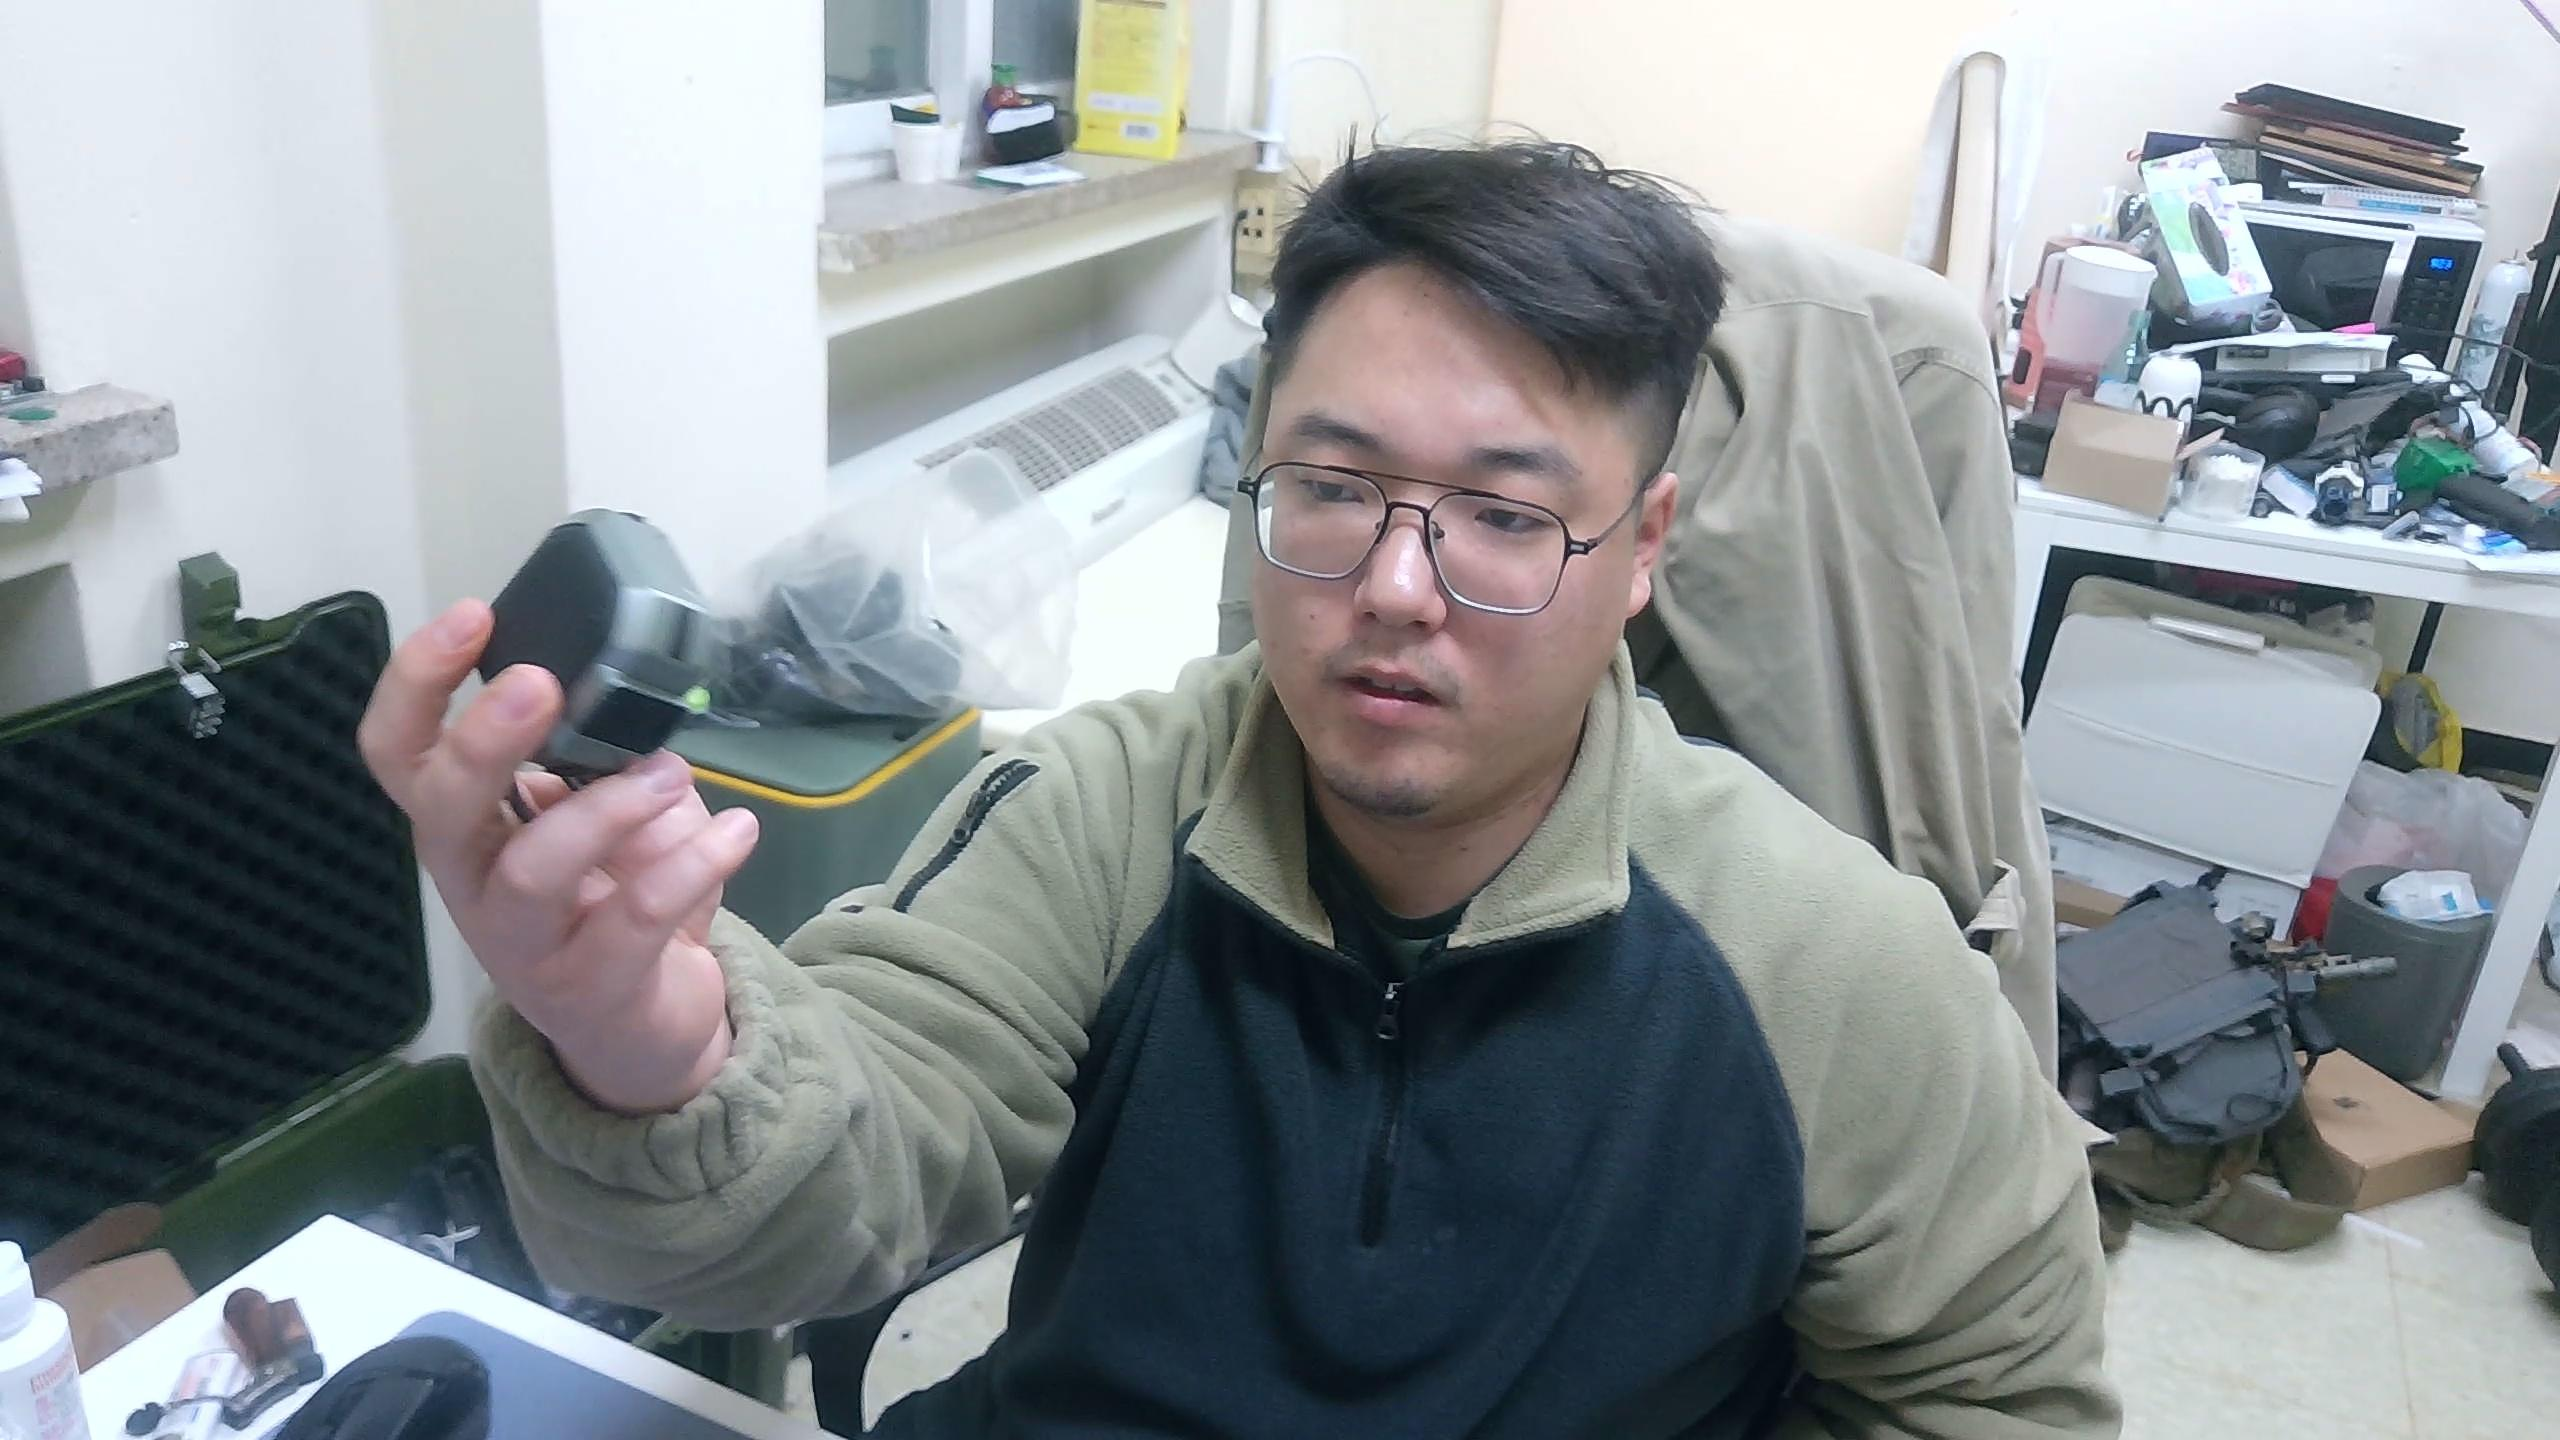blue_pliers: (473, 505, 723, 789)
